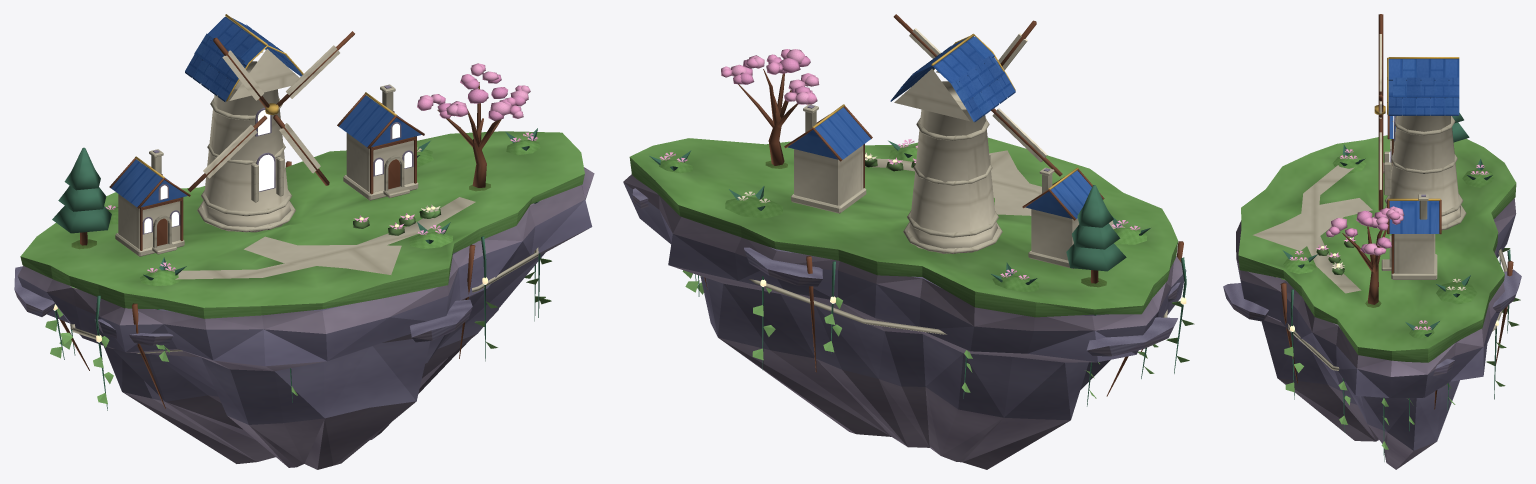
Rendered from sky-windmill-final-v1-low.glb.
The picture shows the model from 3 angles, left to right: view 1: azimuth 30°, elevation 25°; view 2: azimuth 150°, elevation 25°; view 3: azimuth 270°, elevation 25°; orthographic projection. The views are drawn at different scales.
Parts seen in each view (by area): view 1: sky-windmill-final-v1; view 2: sky-windmill-final-v1; view 3: sky-windmill-final-v1.
Part boxes in pixels (x1,y1,x2,y2): sky-windmill-final-v1: (14, 14, 594, 469); sky-windmill-final-v1: (623, 14, 1194, 469); sky-windmill-final-v1: (1223, 14, 1521, 469).
Size of the model in its own units: 17.04 by 13.18 by 9.31.
10 materials, 10 textured.
